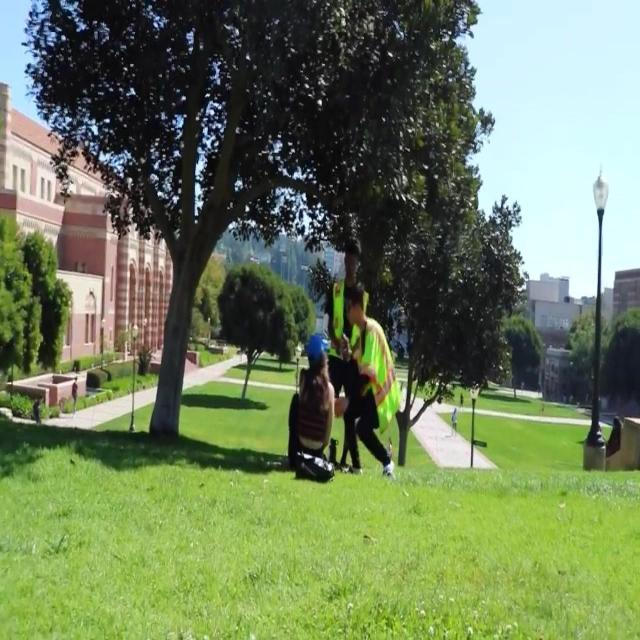Reflective-Jacket: (350, 321, 401, 435), (301, 283, 363, 364)
Safety-Helmet: (304, 330, 329, 364)
